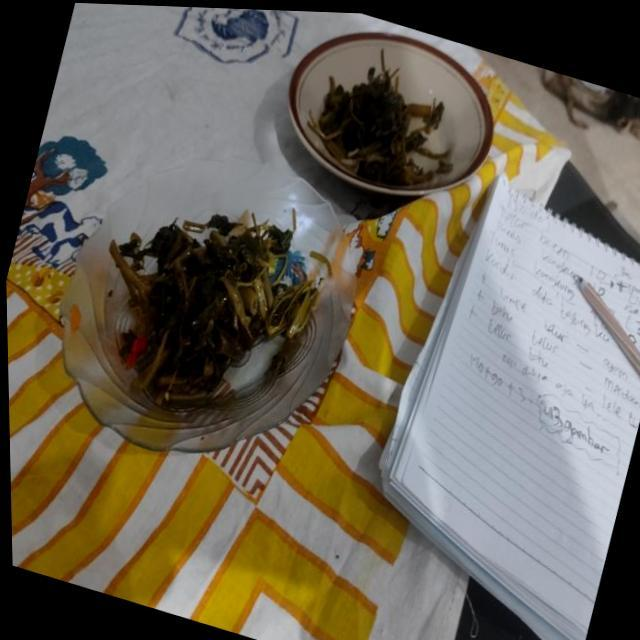tumis_kangkung: (108, 208, 323, 410), (307, 49, 452, 186)
